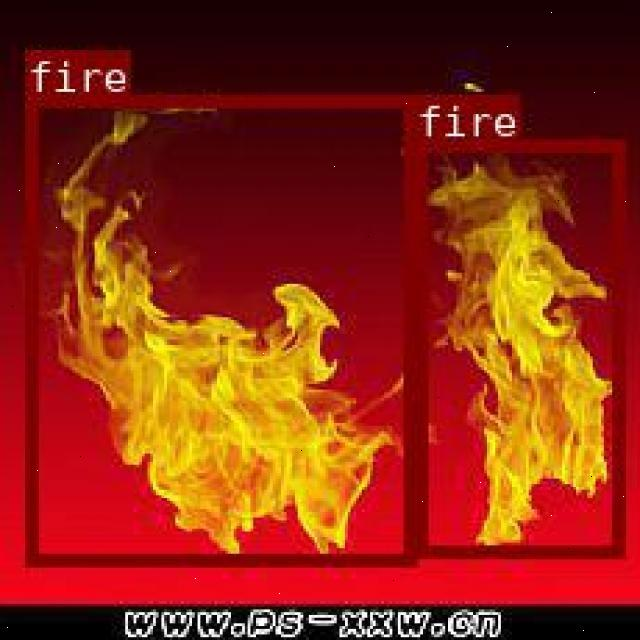fire: (24, 94, 413, 565), (413, 138, 622, 556)
